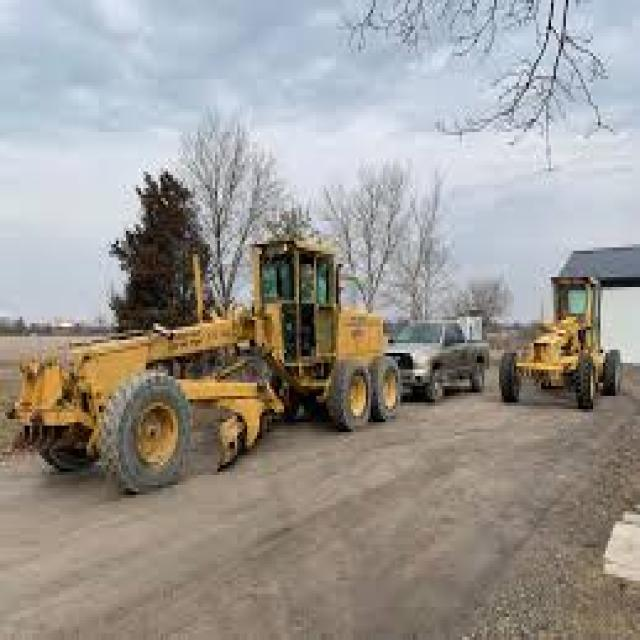buldozerpayloadergrader: (0, 231, 403, 498), (494, 254, 638, 412)
light_vehicle: (381, 294, 502, 406)
